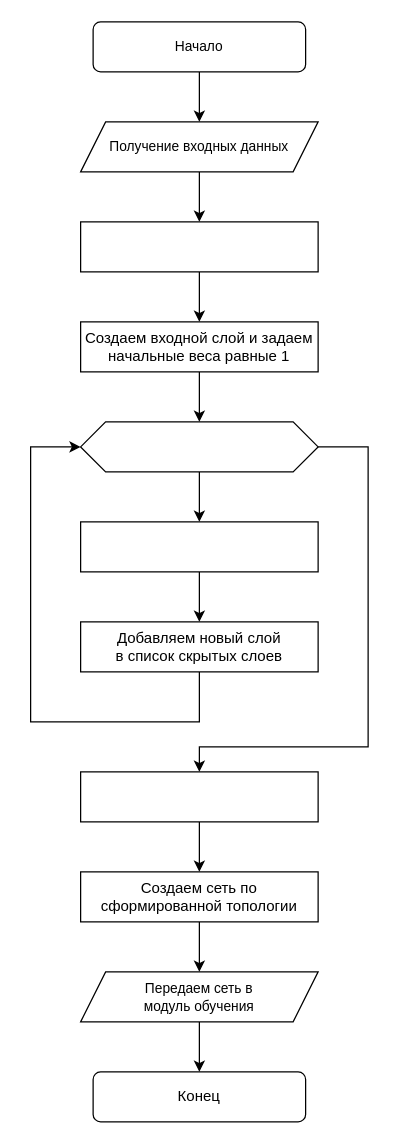
Some shapes in this 400 by 1144 pixel diagram are drawn without their labels. Here are the shapes that lost their labels. From the top down, the centre of each, then its label:
At point (198, 246): "hiddenLayersCount = 4".
At point (198, 446): "x=0;hiddenLayersCount;1".
At point (198, 546): "Создаем новый слой".
At point (198, 796): "Создаем выходной слой из одного нейрона".
